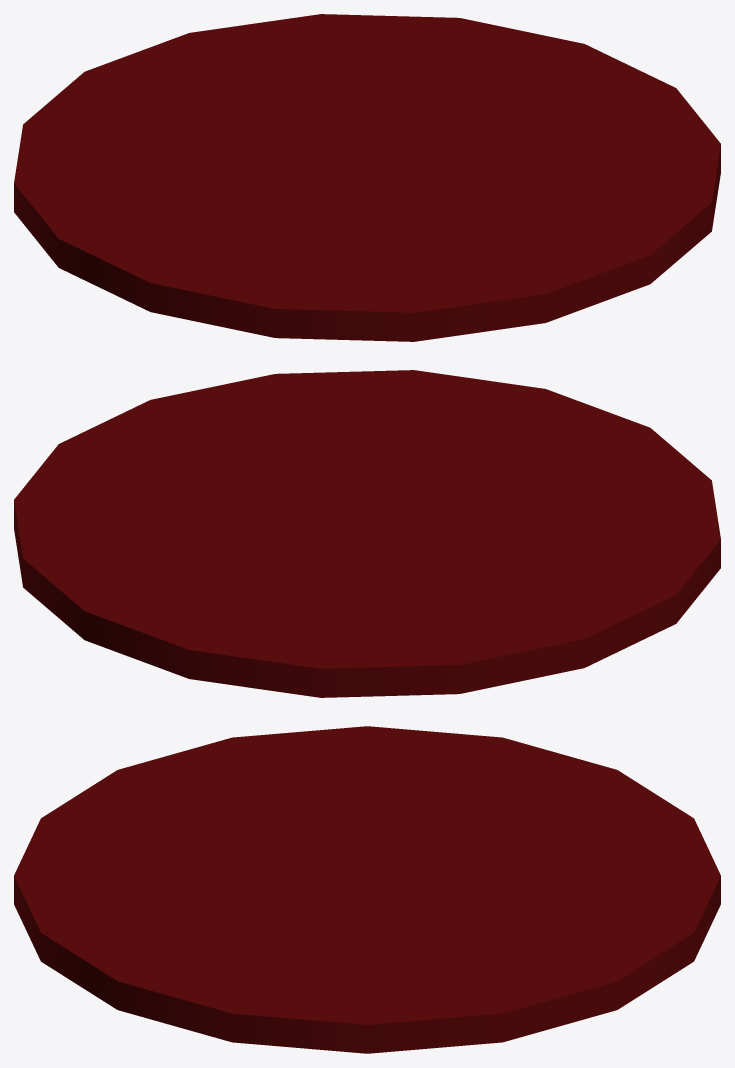
The model's file is Barrel_Lid.fbx.
3 views of the same model, one above another, from view 1: azimuth 30°, elevation 25°; view 2: azimuth 150°, elevation 25°; view 3: azimuth 270°, elevation 25° (orthographic).
Visible parts, largest first — view 1: barrel_Lid; view 2: barrel_Lid; view 3: barrel_Lid.
Boxes of the visible parts, bbox=[...] form: barrel_Lid: bbox=[14, 14, 720, 341]; barrel_Lid: bbox=[14, 370, 720, 697]; barrel_Lid: bbox=[14, 726, 720, 1053].
Bounding box in the file's own units: 16.72 × 0.7529 × 16.72.
